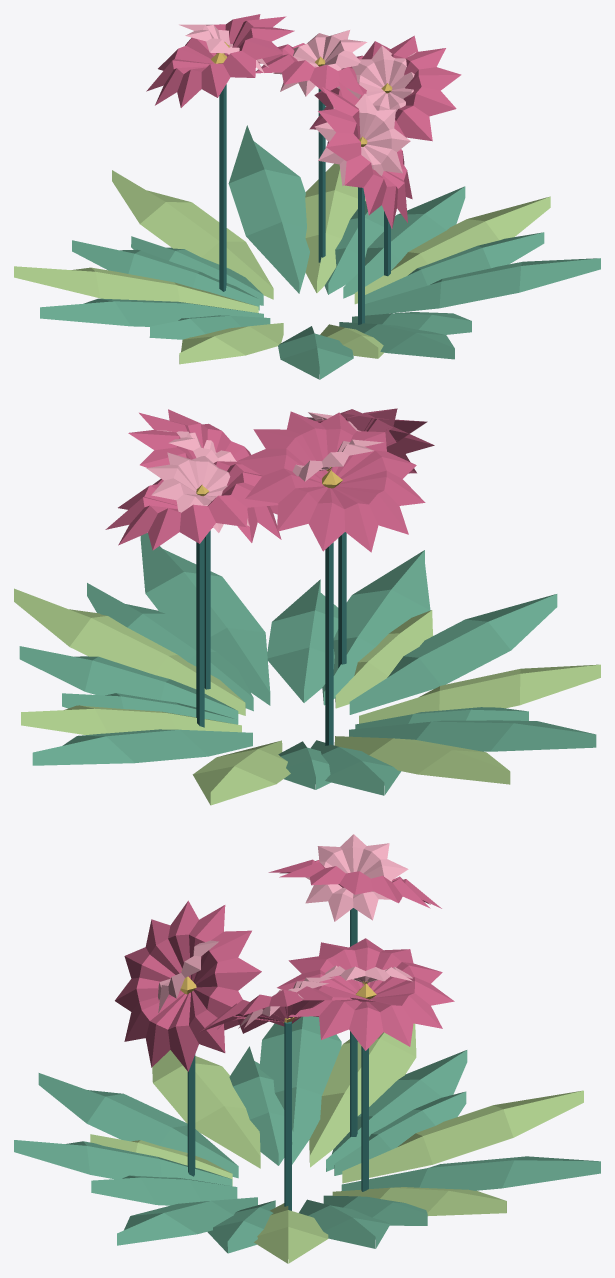
File: peony.glb
3 renders of one model, top to bottom at view 1: azimuth 30°, elevation 25°; view 2: azimuth 150°, elevation 25°; view 3: azimuth 270°, elevation 25°, orthographic. The views are drawn at different scales.
Visible parts, largest first — view 1: Sunwen_peony; view 2: Sunwen_peony; view 3: Sunwen_peony.
Boxes of the visible parts, box(x1,y1,x2,y2) form: Sunwen_peony: box(14, 14, 600, 379); Sunwen_peony: box(14, 408, 600, 805); Sunwen_peony: box(14, 834, 600, 1263).
Bounding box in the file's own units: 1.69 × 0.901 × 1.57.
